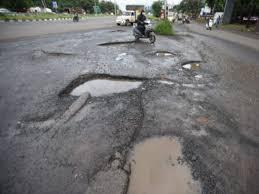pothole: (115, 131, 202, 194), (63, 67, 145, 101), (179, 56, 211, 74), (31, 48, 77, 58), (150, 48, 175, 59)
